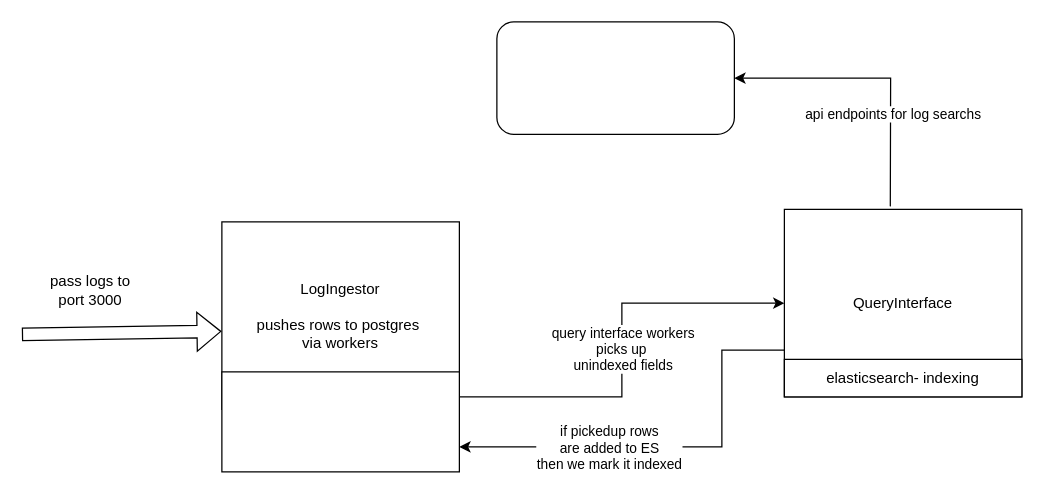
The diagram is 1044 pixels wide and 494 high, and some of its shapes have lost their labels. Here are the shapes that lost their labels. From the top down, the centre of each, then its label:
point (615, 77): Frontend
point (340, 421): postgres- persistant
